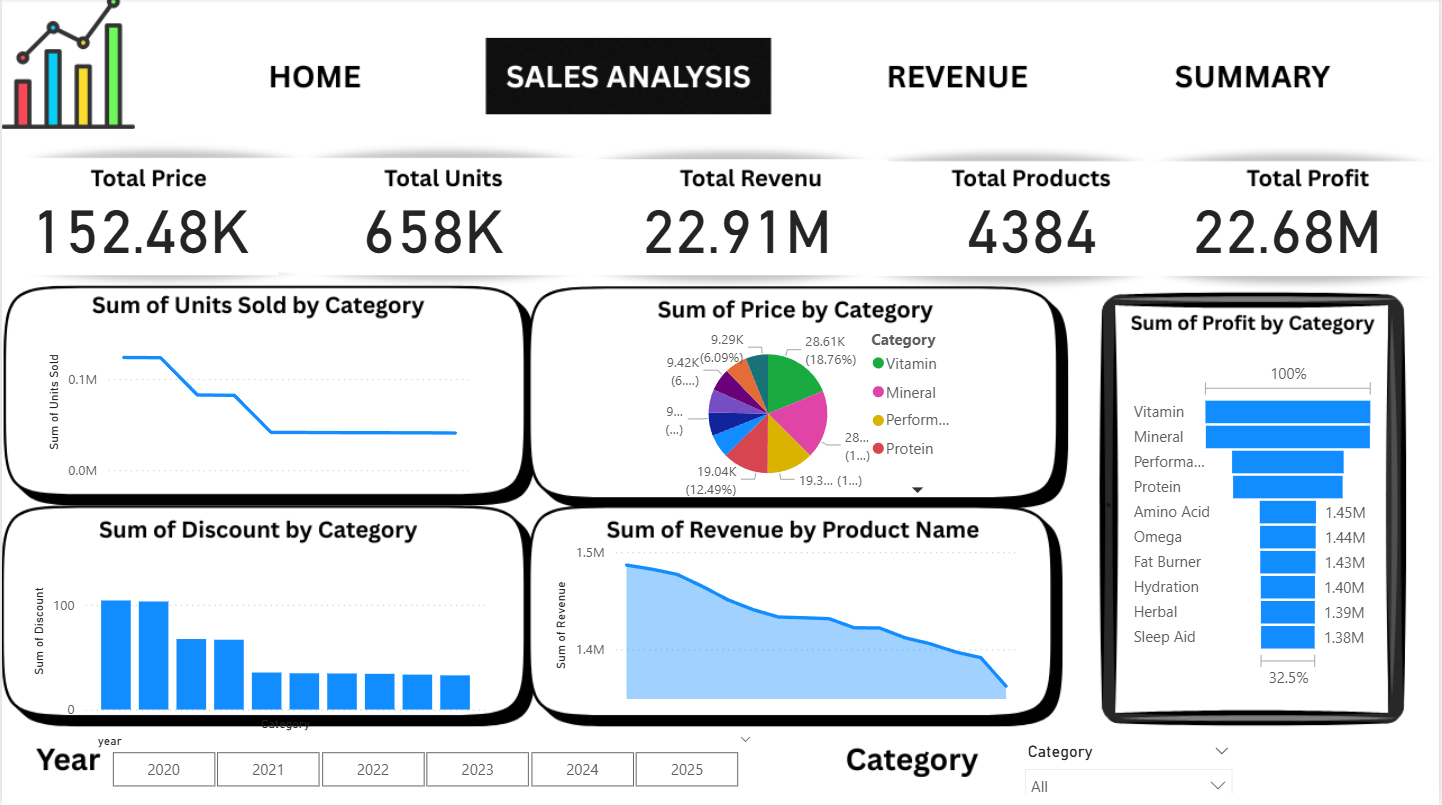

Layout of this report page (visuals, bound fields, positions):
{"tool":"powerbi","page":{"name":"Sales Analysis","canvas":[1280,720],"ordinal":1},"visuals":[{"type":"card","fields":{"Values":["Sum(sales_data salesdataanalysis.Price)"]},"box":[0,177.9,246.6,68.7],"z":0},{"type":"card","fields":{"Values":["Sum(sales_data salesdataanalysis.Units Sold)"]},"box":[261.4,177.9,245.4,68.7],"z":1},{"type":"card","fields":{"Values":["Sum(sales_data salesdataanalysis.Revenue)"]},"box":[532.5,177.9,245.4,68.7],"z":2},{"type":"card","fields":{"Values":["CountNonNull(sales_data salesdataanalysis.Product Name)"]},"box":[795.1,177.9,245.4,68.7],"z":3},{"type":"card","fields":{"Values":["Sum(sales_data salesdataanalysis.Profit)"]},"box":[1027,176.7,234.4,69.9],"z":4},{"type":"pieChart","fields":{"Category":["sales_data salesdataanalysis.Category"],"Y":["Sum(sales_data salesdataanalysis.Price)"]},"box":[585.3,289.6,273.6,162],"z":5},{"type":"lineChart","fields":{"Category":["sales_data salesdataanalysis.Category"],"Y":["Sum(sales_data salesdataanalysis.Units Sold)"]},"box":[35.6,284.7,386.5,149.7],"z":6},{"type":"clusteredColumnChart","fields":{"Y":["Sum(sales_data salesdataanalysis.Discount)"],"Category":["sales_data salesdataanalysis.Category"]},"box":[22.1,479.8,413.5,177.9],"z":7},{"type":"areaChart","fields":{"Y":["Sum(sales_data salesdataanalysis.Revenue)"],"Category":["sales_data salesdataanalysis.Product Name"]},"box":[487.1,479.8,420.9,149.7],"z":8},{"type":"funnel","fields":{"Category":["sales_data salesdataanalysis.Category"],"Y":["Sum(sales_data salesdataanalysis.Profit)"]},"box":[1002.5,319,225.8,299.4],"z":9},{"type":"slicer","fields":{"Values":["sales_data salesdataanalysis.year"]},"box":[72.4,650.3,607.4,58.9],"z":10},{"type":"slicer","fields":{"Values":["sales_data salesdataanalysis.Category"]},"box":[900.6,657.7,204.9,51.5],"z":11},{"type":"actionButton","box":[229.2,46.7,100.2,39.8],"z":12},{"type":"actionButton","box":[778,48,152.3,39.8],"z":13},{"type":"actionButton","box":[775.3,49.4,142.7,39.8],"z":14},{"type":"actionButton","box":[1038.8,46.7,152.3,39.8],"z":15}]}

Visuals, with their boxes in screenshot pixels (x1, y1, x2, y2), scaled from the page's 1280x720 canvas onto the 1442x805 screenshot:
card - Sum(sales_data salesdataanalysis.Price): 0/199/278/276
card - Sum(sales_data salesdataanalysis.Units Sold): 294/199/571/276
card - Sum(sales_data salesdataanalysis.Revenue): 600/199/876/276
card - CountNonNull(sales_data salesdataanalysis.Product Name): 896/199/1172/276
card - Sum(sales_data salesdataanalysis.Profit): 1157/198/1421/276
pieChart - sales_data salesdataanalysis.Category x Sum(sales_data salesdataanalysis.Price): 659/324/968/505
lineChart - sales_data salesdataanalysis.Category x Sum(sales_data salesdataanalysis.Units Sold): 40/318/476/486
clusteredColumnChart - Sum(sales_data salesdataanalysis.Discount) x sales_data salesdataanalysis.Category: 25/536/491/735
areaChart - Sum(sales_data salesdataanalysis.Revenue) x sales_data salesdataanalysis.Product Name: 549/536/1023/704
funnel - sales_data salesdataanalysis.Category x Sum(sales_data salesdataanalysis.Profit): 1129/357/1384/691
slicer - sales_data salesdataanalysis.year: 82/727/766/793
slicer - sales_data salesdataanalysis.Category: 1015/735/1245/793
actionButton: 258/52/371/97
actionButton: 876/54/1048/98
actionButton: 873/55/1034/100
actionButton: 1170/52/1342/97
